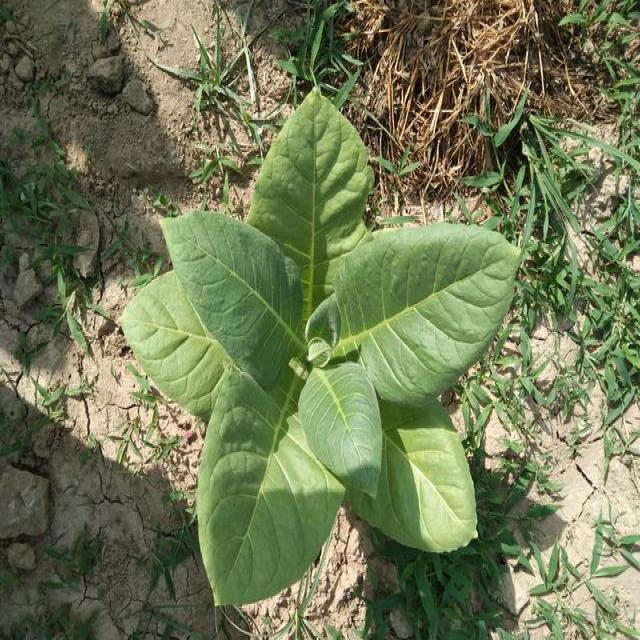crop: (118, 81, 523, 606)
